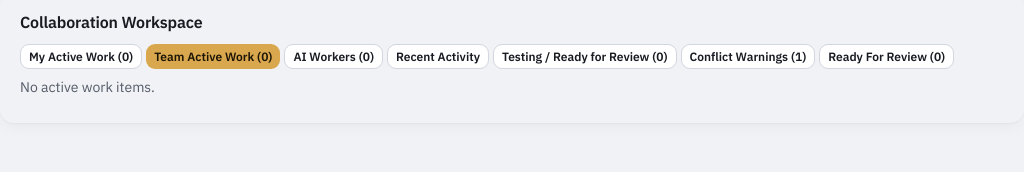
Test: CollaborationWorkspace › Conflict Warnings renders pairwise conflicts
Check: the text "No active work items." is shown, box x1=20 y1=78 x2=155 y2=96
Click the button "Conflict Warnings (1)": (748, 56) x1=681 y1=44 x2=815 y2=69
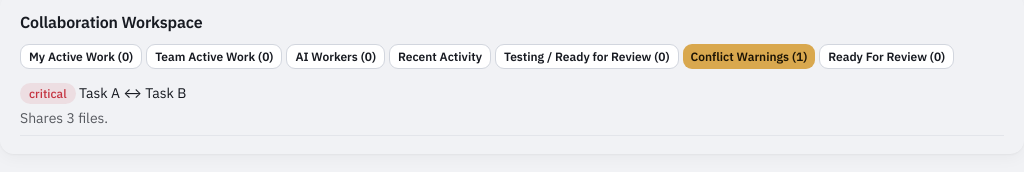
Check: the list item "critical Task A ↔ Task B Shares 3 files." is shown, box x1=20 y1=77 x2=1004 y2=136
